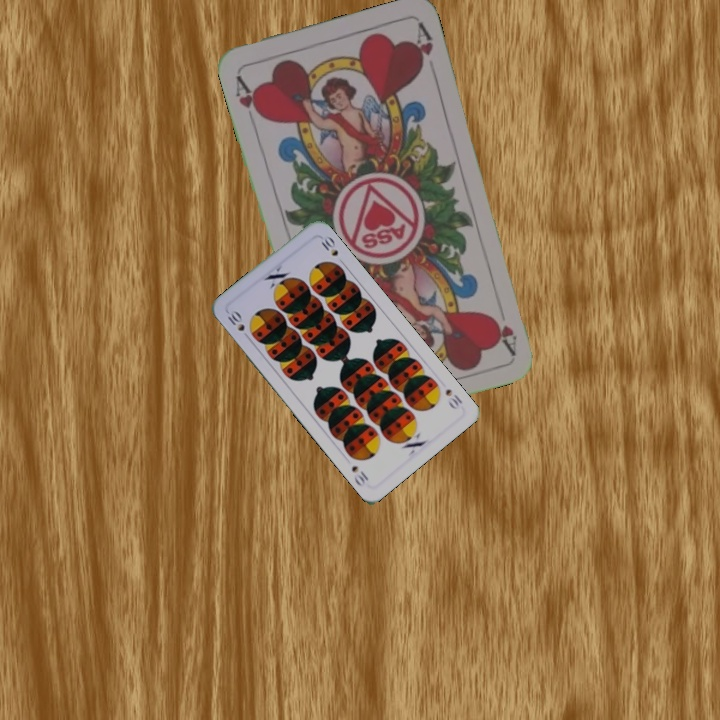HA: (231, 71, 266, 122), (486, 312, 520, 356)
S10: (223, 306, 247, 334), (441, 385, 465, 412)
